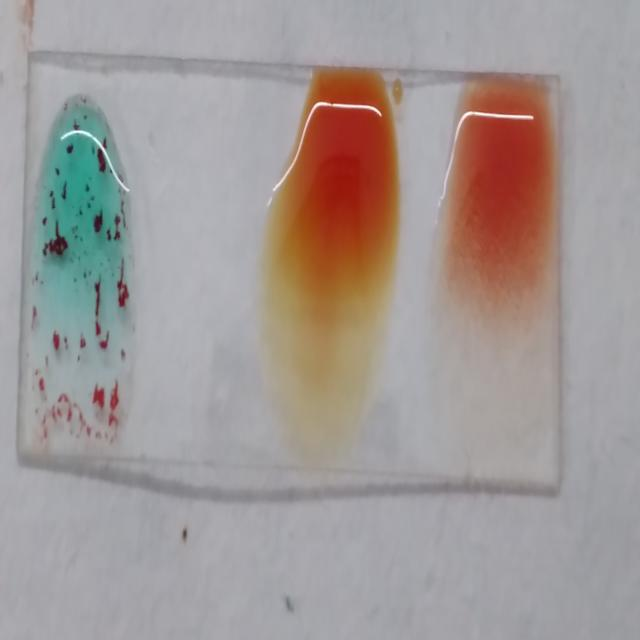A: (28, 102, 138, 439)
D: (439, 92, 551, 368)
